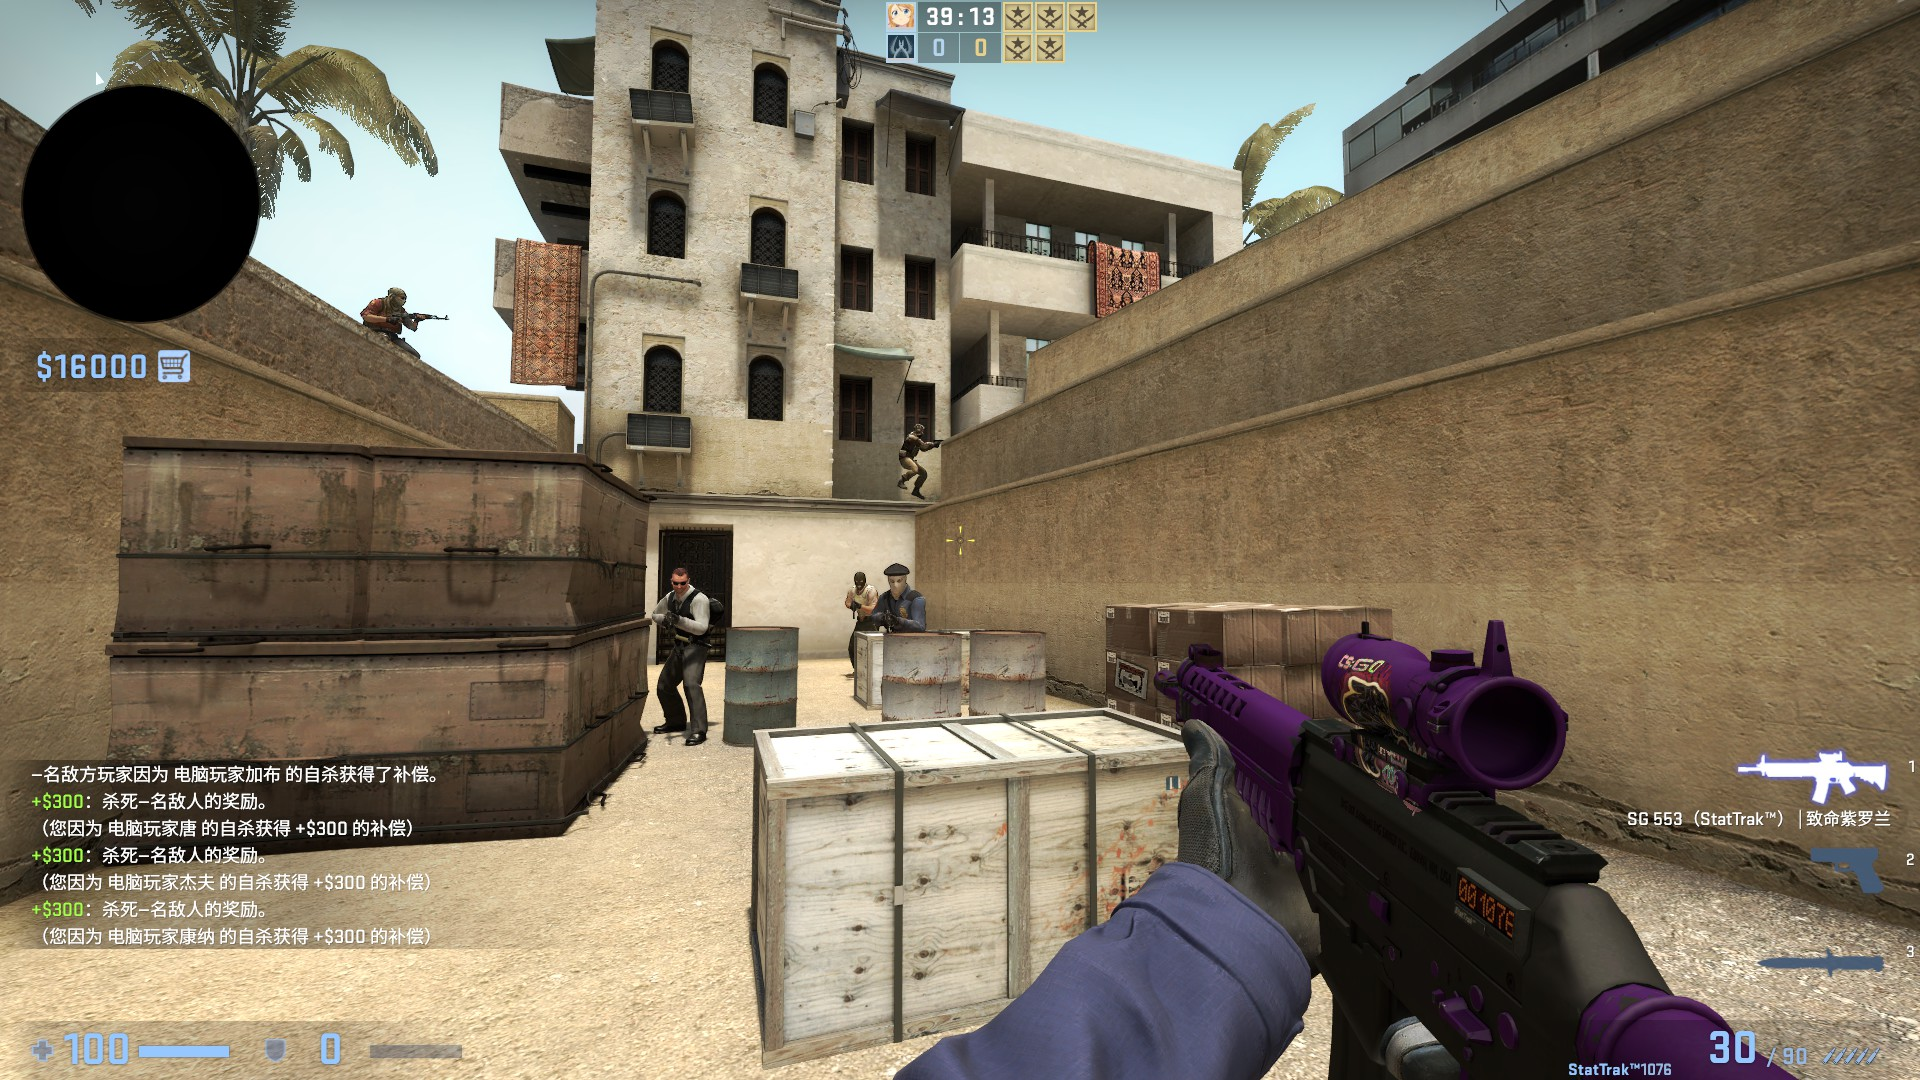head: (882, 560, 908, 595), (671, 566, 688, 592), (851, 570, 866, 591), (911, 422, 925, 437)
